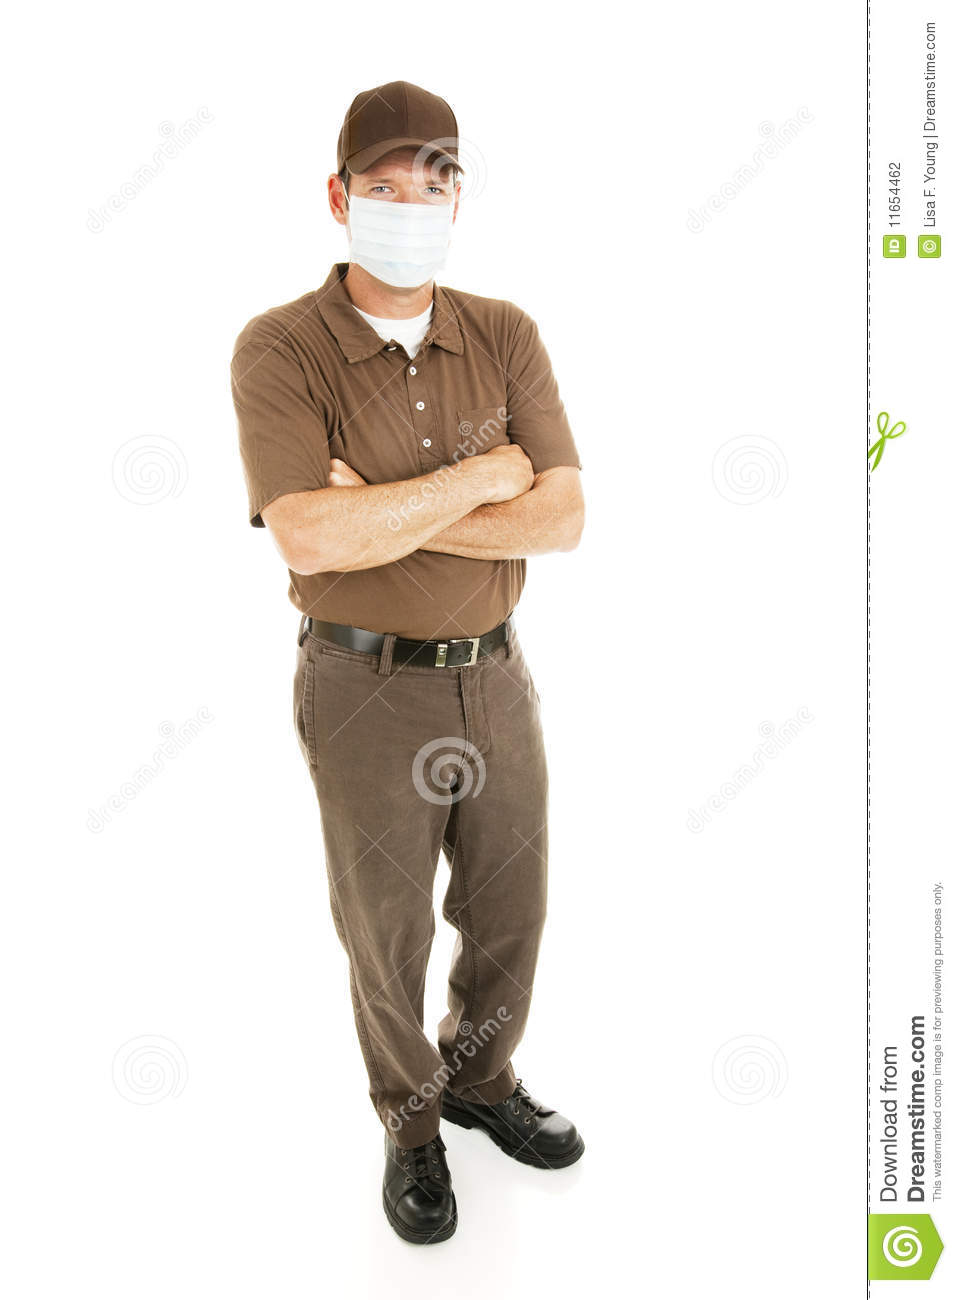mask: (347, 197, 452, 289)
